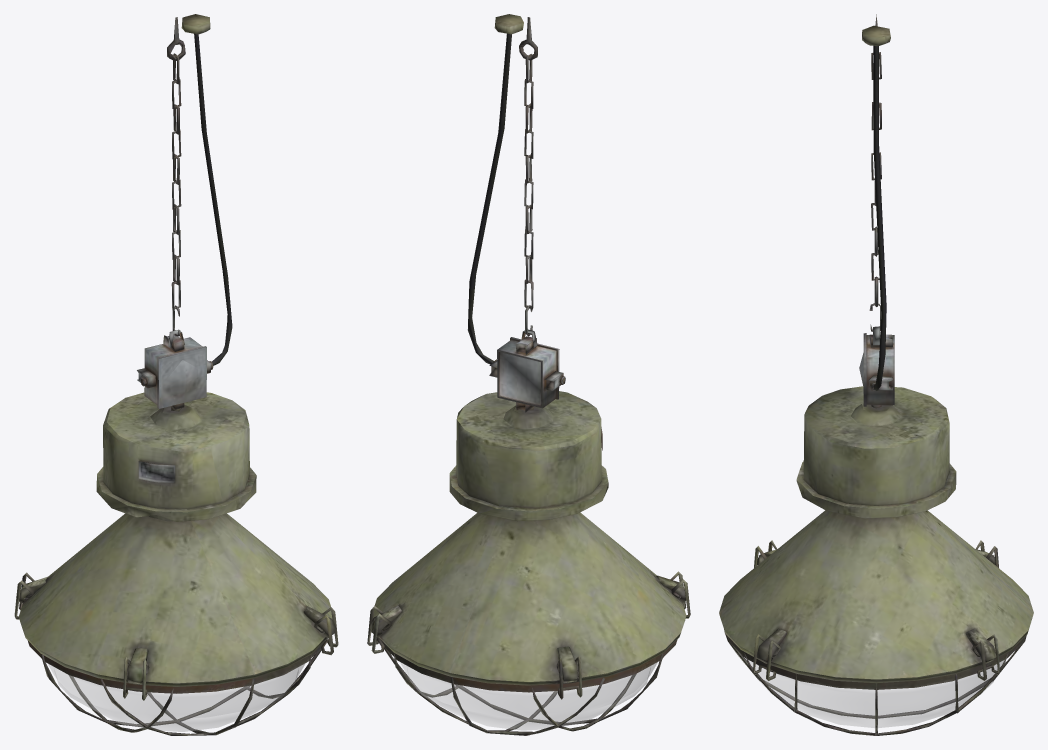
The model's file is hlamp.glb.
3 views of the same model, side by side, from view 1: azimuth 30°, elevation 25°; view 2: azimuth 150°, elevation 25°; view 3: azimuth 270°, elevation 25° (orthographic).
Visible parts, largest first — view 1: hanging_industrial_lamp; view 2: hanging_industrial_lamp; view 3: hanging_industrial_lamp.
Boxes of the visible parts, x1,y1,x2,y2 form: hanging_industrial_lamp: (14,14,338,735); hanging_industrial_lamp: (367,14,690,735); hanging_industrial_lamp: (719,14,1033,735).
Size of the model in its own units: 0.5496 by 1.36 by 0.5496.
2 materials, 1 textured.
